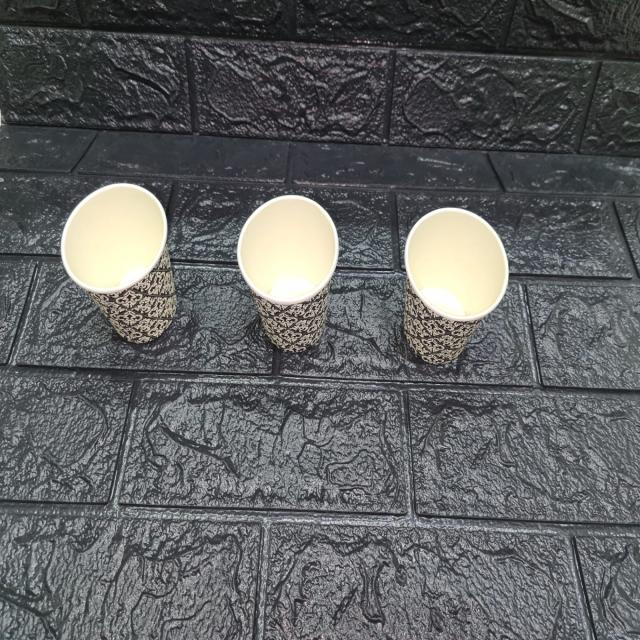cups: (62, 178, 175, 341), (399, 205, 512, 364), (238, 196, 341, 355)
